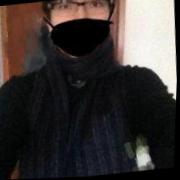WRONG: (46, 1, 118, 63)
